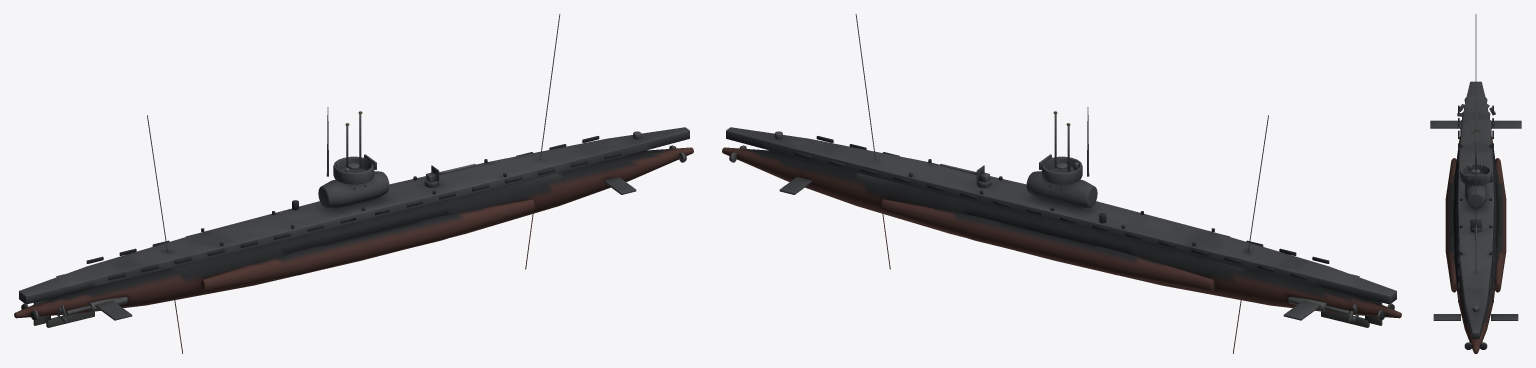
3 renders of one model, left to right at view 1: azimuth 30°, elevation 25°; view 2: azimuth 150°, elevation 25°; view 3: azimuth 270°, elevation 25°, orthographic. The views are drawn at different scales.
Parts seen in each view (by area): view 1: hull, casing, tower, planes, bridge; view 2: hull, casing, tower, planes, bridge; view 3: casing, hull, planes, bridge, tower, gun, screw, periscope, tubes, vents.
Part boxes in pixels (x1,y1,x2,y2): hull: [14, 147, 693, 318]; casing: [19, 14, 689, 353]; tower: [318, 163, 389, 208]; planes: [33, 177, 636, 327]; bridge: [333, 154, 376, 184]; hull: [722, 147, 1401, 318]; casing: [726, 14, 1396, 353]; tower: [1026, 163, 1097, 208]; planes: [779, 177, 1382, 327]; bridge: [1039, 154, 1082, 184]; casing: [1458, 14, 1493, 338]; hull: [1445, 133, 1506, 353]; planes: [1430, 120, 1521, 320]; bridge: [1460, 162, 1491, 185]; tower: [1465, 169, 1486, 208]; gun: [1470, 219, 1481, 239]; screw: [1457, 104, 1495, 134]; periscope: [1475, 111, 1476, 174]; tubes: [1464, 97, 1487, 349]; vents: [1459, 144, 1492, 254].
Size of the model in its own units: 57.4 by 20.06 by 8.6.
